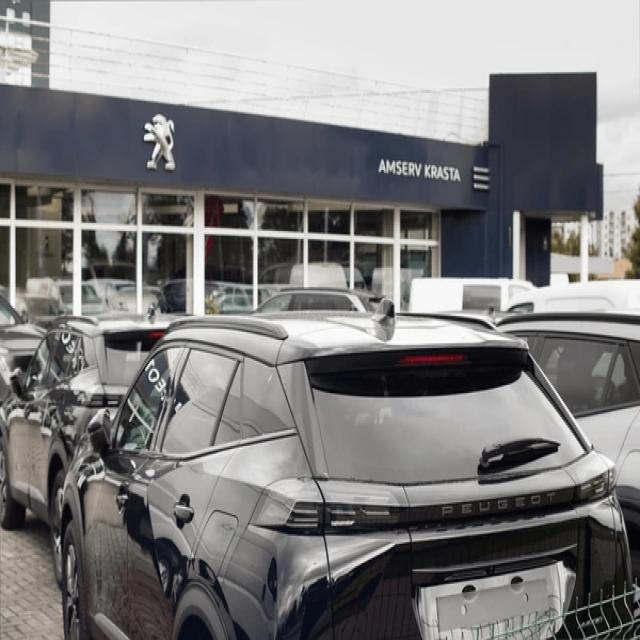pegout: (432, 491, 565, 522), (141, 103, 181, 178)
